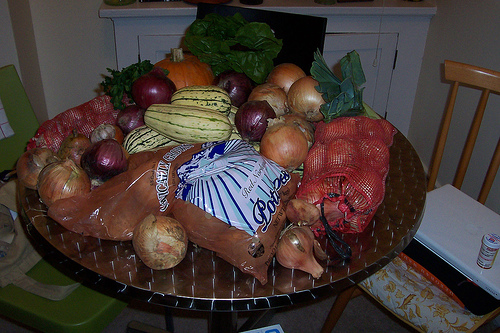onion: (134, 215, 189, 271), (33, 156, 92, 208), (275, 227, 326, 281), (260, 122, 312, 168), (286, 73, 327, 115)
